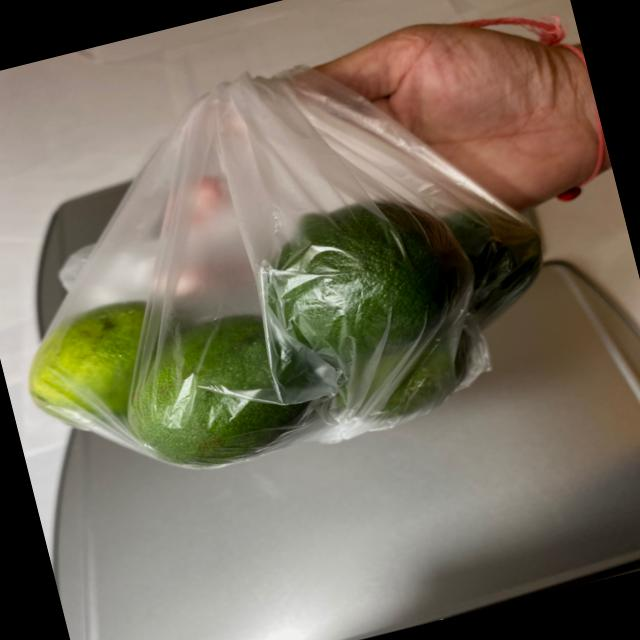lemon: (8, 161, 585, 508)
